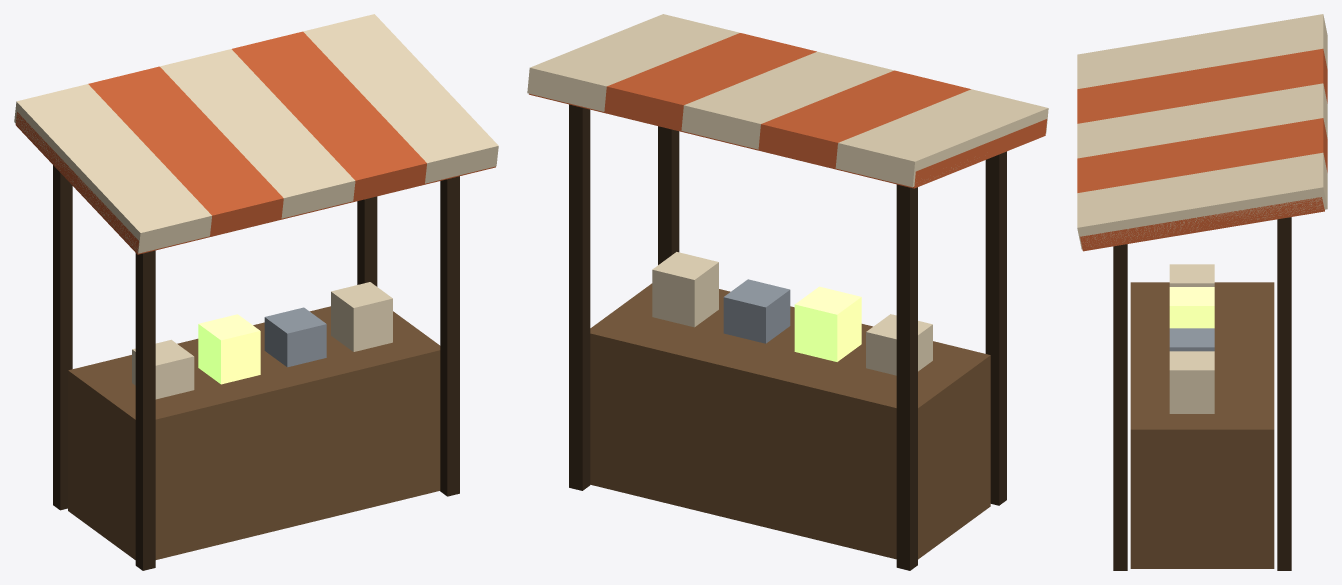
File: f_stall.glb
3 renders of one model, left to right at view 1: azimuth 30°, elevation 25°; view 2: azimuth 150°, elevation 25°; view 3: azimuth 270°, elevation 25°, orthographic. The views are drawn at different scales.
Parts seen in each view (by area): view 1: stall; view 2: stall; view 3: stall.
Part boxes in pixels (x1=…): stall: x1=14, y1=14, x2=498, y2=570; stall: x1=527, y1=14, x2=1048, y2=570; stall: x1=1077, y1=14, x2=1327, y2=570.
Bounding box in the file's own units: 2 × 2.12 × 1.22.
